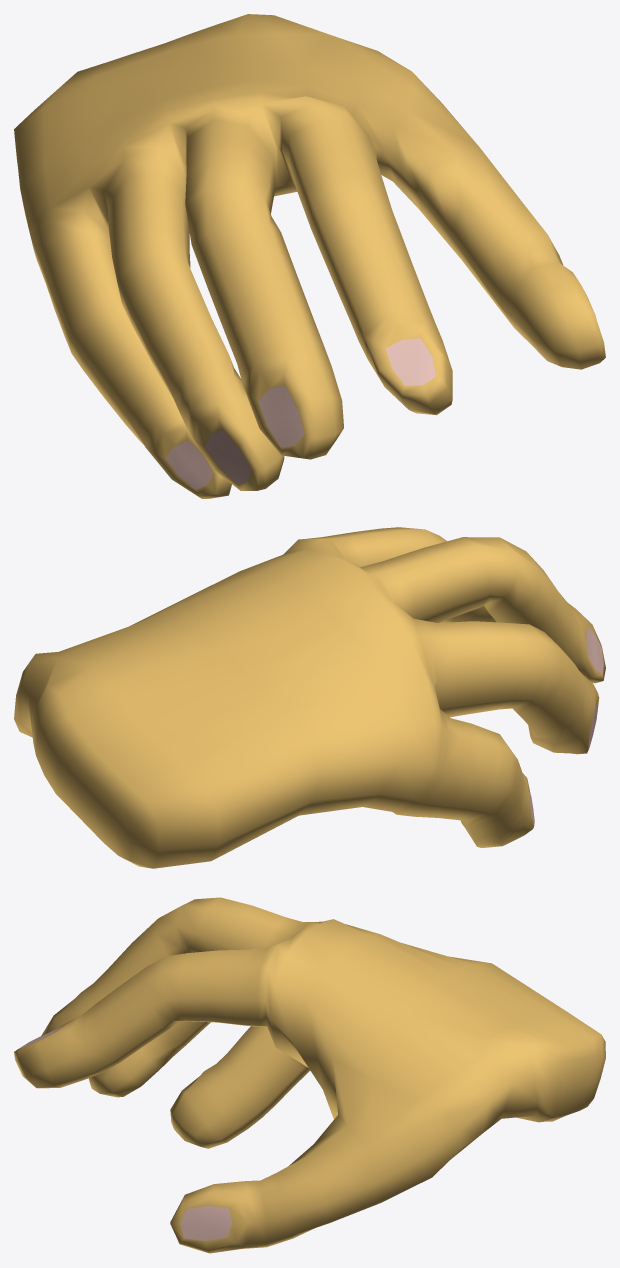
Rendered from Hand_Fire.fbx.
3 renders of one model, top to bottom at view 1: azimuth 30°, elevation 25°; view 2: azimuth 150°, elevation 25°; view 3: azimuth 270°, elevation 25°, orthographic. The views are drawn at different scales.
Parts seen in each view (by area): view 1: Hand.004; view 2: Hand.004; view 3: Hand.004.
Boxes of the visible parts, x1,y1,x2,y2 form: Hand.004: (14, 14, 605, 498); Hand.004: (14, 527, 605, 868); Hand.004: (14, 897, 605, 1253).
Size of the model in its own units: 451 by 630 by 299.
